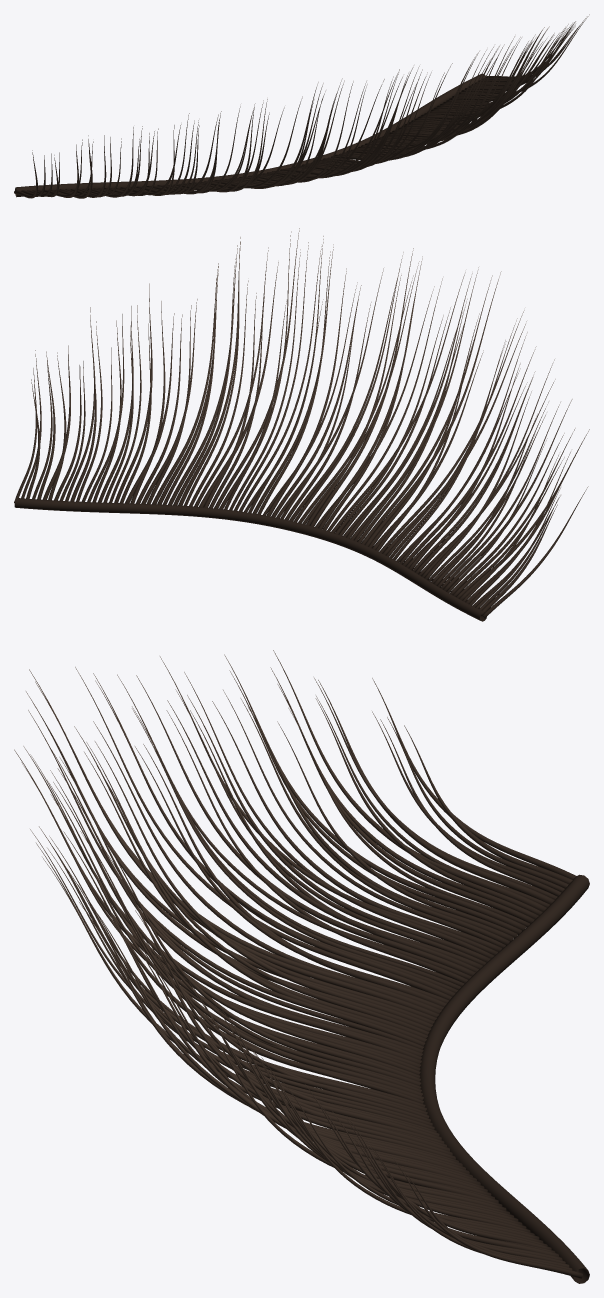
File: wispy_right.glb
3 renders of one model, top to bottom at view 1: azimuth 30°, elevation 25°; view 2: azimuth 150°, elevation 25°; view 3: azimuth 270°, elevation 25°, orthographic. The views are drawn at different scales.
Visible parts, largest first — view 1: lash_right; view 2: lash_right; view 3: lash_right.
Boxes of the visible parts, x1,y1,x2,y2 form: lash_right: (14,14,589,198); lash_right: (14,228,589,621); lash_right: (14,650,589,1283).
Size of the model in its own units: 3.55 by 1.21 by 1.86.
